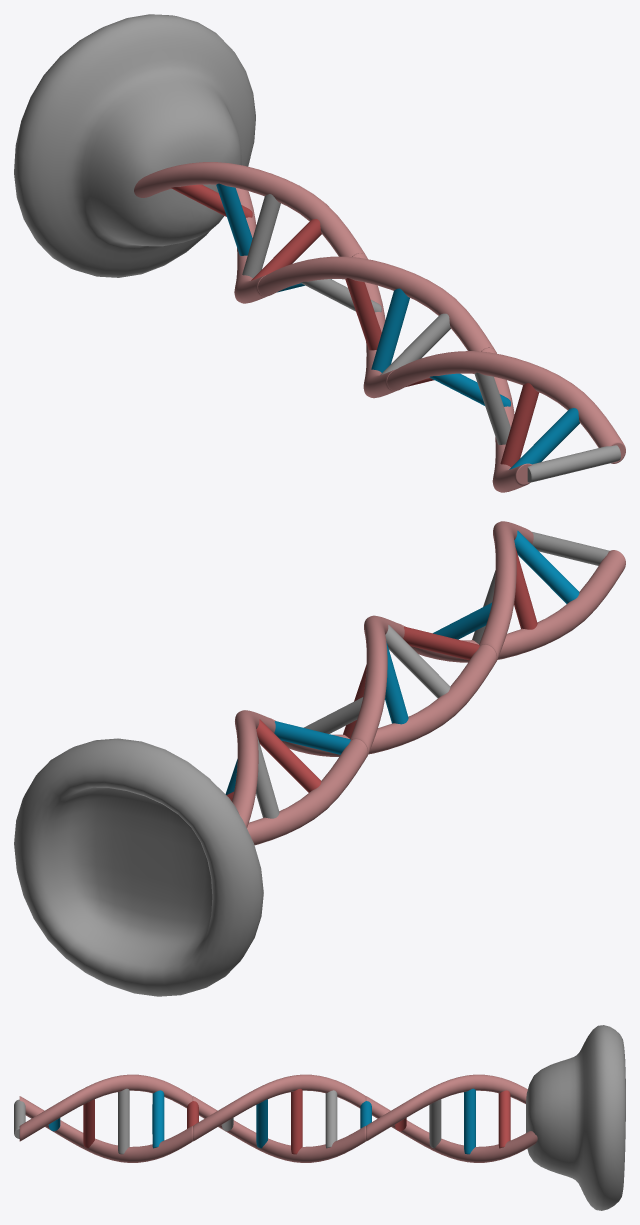
Rendered from grabber.fbx.
3 renders of one model, top to bottom at view 1: azimuth 30°, elevation 25°; view 2: azimuth 150°, elevation 25°; view 3: azimuth 270°, elevation 25°, orthographic. The views are drawn at different scales.
Visible parts, largest first — view 1: grabber; view 2: grabber; view 3: grabber.
Part boxes in pixels (x1,y1,x2,y2): grabber: (14, 14, 625, 492); grabber: (14, 521, 625, 996); grabber: (14, 1025, 625, 1210).
Size of the model in its own units: 1.07 by 1.07 by 3.54.
